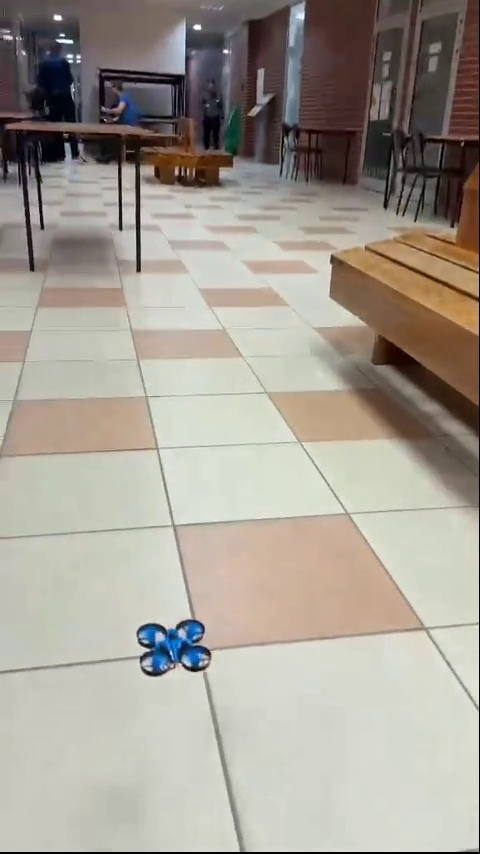drone: (135, 616, 212, 676)
no vest: (32, 40, 92, 165), (96, 73, 152, 136), (197, 72, 228, 154)
